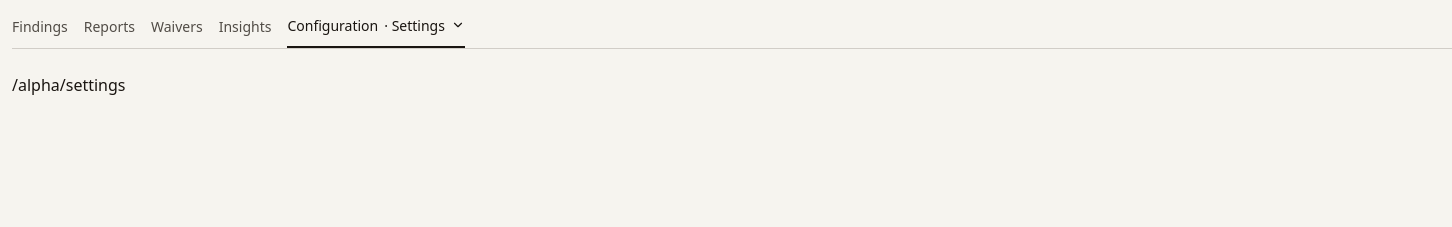
Scenario: project navigation › keeps the active settings page discoverable with the menu closed
This screenshot has width=1452, height=227.
Expected: the button "Configuration" does not show "Configuration"
Click the button "Configuration · Settings" at [376, 30], box [287,12,465,48]
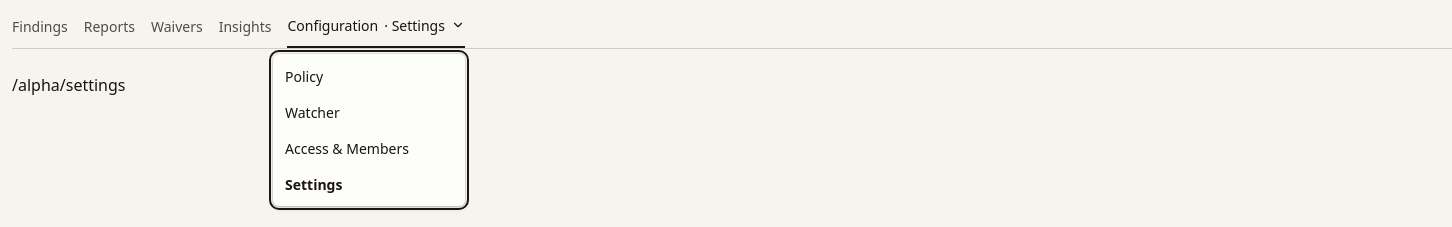
Expected: the menu is shown, [273,54,465,206]
